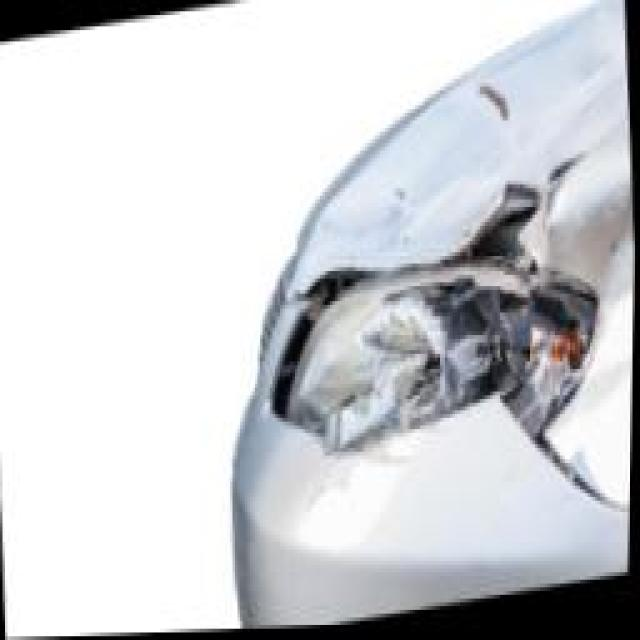Bonnet: (290, 0, 630, 283)
Bumper: (217, 398, 632, 631)
Light: (274, 273, 599, 443)
